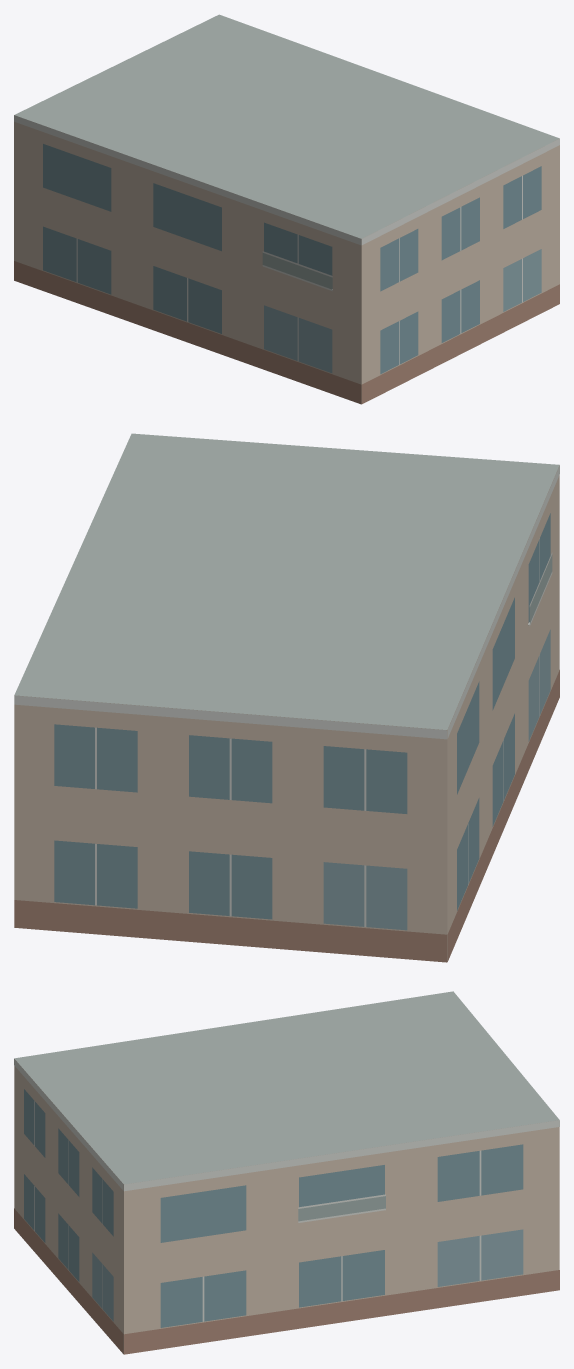
File: survey-upis-32831386.glb
3 views of the same model, one above another, from view 1: azimuth 30°, elevation 25°; view 2: azimuth 150°, elevation 25°; view 3: azimuth 270°, elevation 25° (orthographic). The views are drawn at different scales.
Parts seen in each view (by area): view 1: survey-upis-32831386.tmp; view 2: survey-upis-32831386.tmp; view 3: survey-upis-32831386.tmp.
Part boxes in pixels (x1,y1,x2,y2): survey-upis-32831386.tmp: (14, 14, 559, 404); survey-upis-32831386.tmp: (14, 433, 559, 962); survey-upis-32831386.tmp: (14, 991, 559, 1354).
Bounding box in the file's own units: 14.87 × 6.1 × 17.75.
